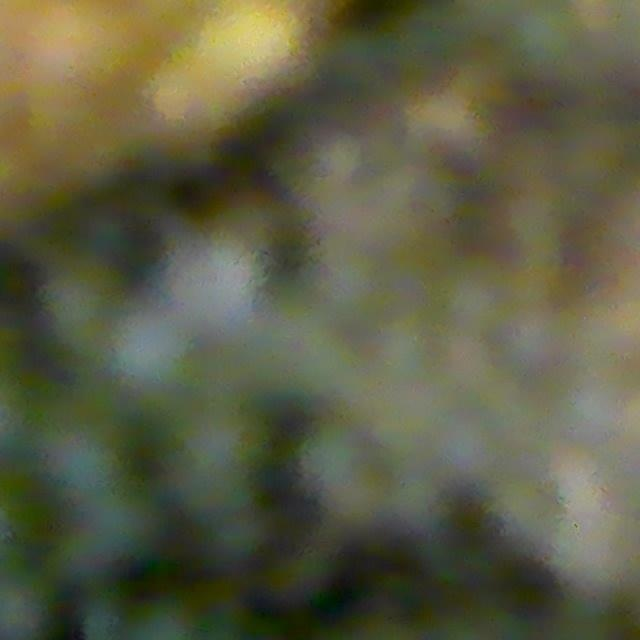SeaGrape: (104, 309, 195, 400)
